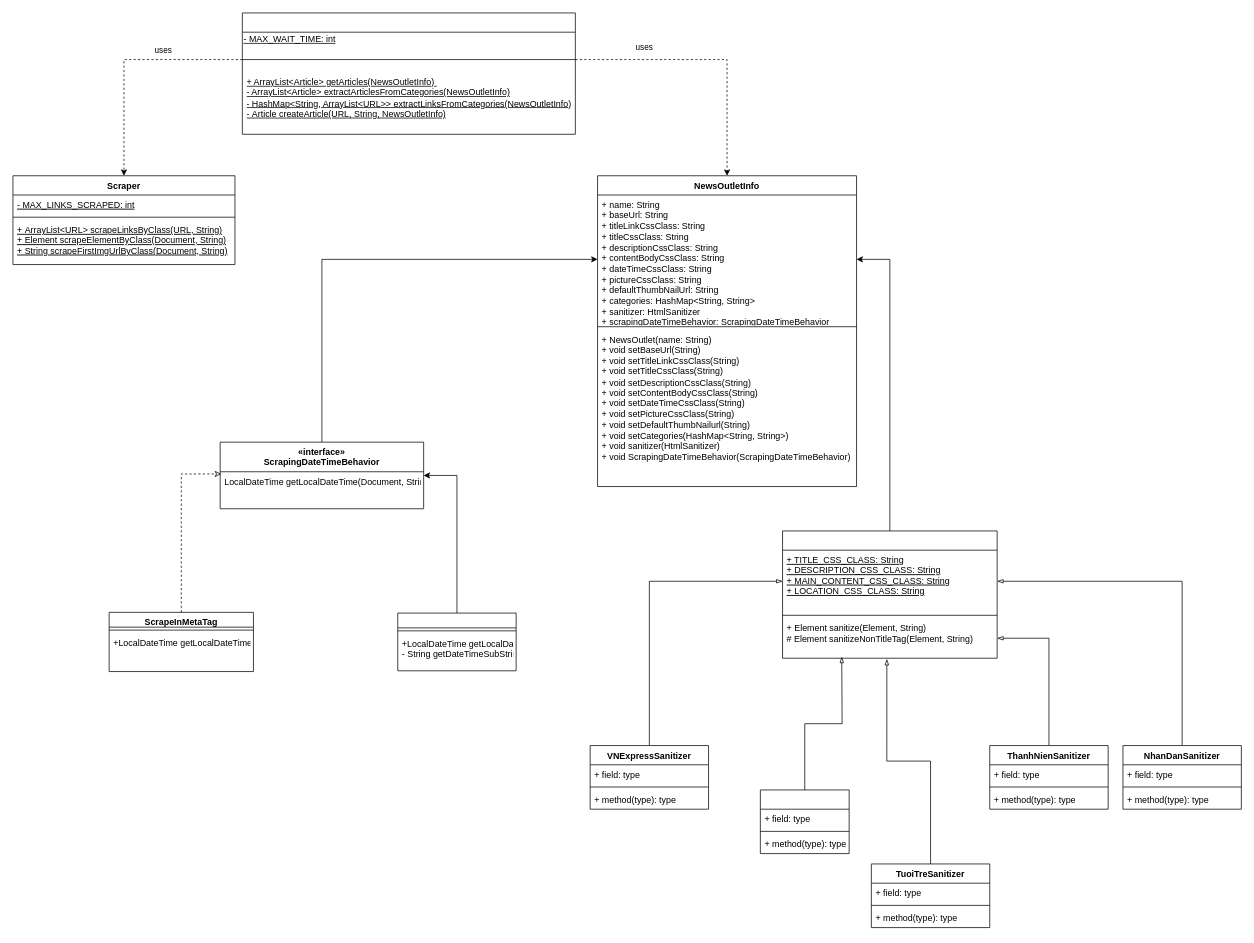
Image size: 1254x943. Some labels were removed from this diagram. Here are the shapes that lost their labels. From the top down, the box of each, then its label:
(242, 12, 575, 134): ArticleListGenerator
(782, 530, 997, 658): HtmlSanitizer
(397, 612, 516, 671): ScrapeInBodyTag
(760, 789, 849, 854): ZingNewsSanitizer
